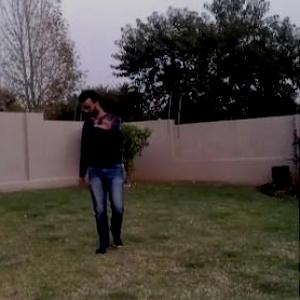follow_hand: (93, 105, 119, 130)
